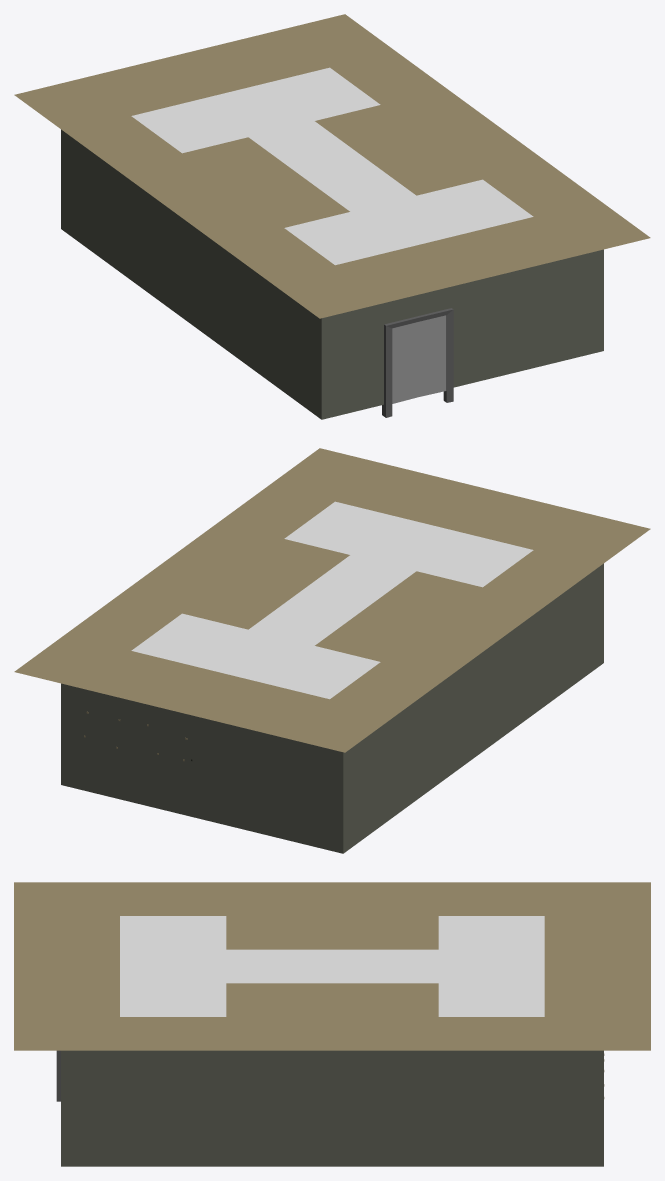
Rendered from shop_gun_ASSET.fbx.
The picture shows the model from 3 angles, top to bottom: view 1: azimuth 30°, elevation 25°; view 2: azimuth 150°, elevation 25°; view 3: azimuth 270°, elevation 25°; orthographic projection. The views are drawn at different scales.
Parts seen in each view (by area): view 1: Plane; view 2: Plane; view 3: Plane.
Part boxes in pixels (box(x1,y1,x2,y2)): Plane: box(14, 14, 650, 419); Plane: box(14, 448, 650, 853); Plane: box(14, 882, 650, 1166).
Size of the model in its own units: 1178 by 461 by 1884.
